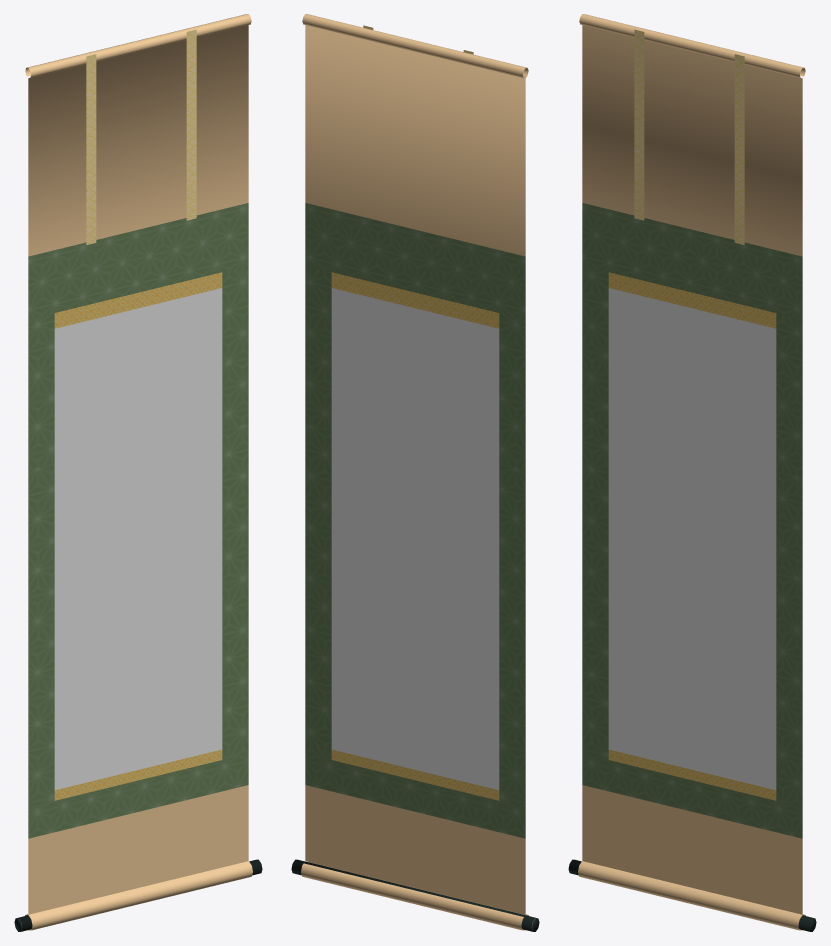
File: kakejiku.glb
3 views of the same model, side by side, from view 1: azimuth 30°, elevation 25°; view 2: azimuth 150°, elevation 25°; view 3: azimuth 330°, elevation 25° (orthographic).
Parts seen in each view (by area): view 1: Cylinder, __X_IMAGE__; view 2: Cylinder, __X_IMAGE__; view 3: Cylinder, __X_IMAGE__.
Part boxes in pixels (box(x1,y1,x2,y2)): Cylinder: box(14, 14, 262, 931); __X_IMAGE__: box(54, 288, 222, 790); Cylinder: box(291, 14, 539, 931); __X_IMAGE__: box(331, 288, 499, 790); Cylinder: box(568, 14, 816, 931); __X_IMAGE__: box(608, 288, 776, 790).
Bounding box in the file's own units: 0.48 × 1.65 × 0.03.
Materials: 2 (1 with a texture image).
